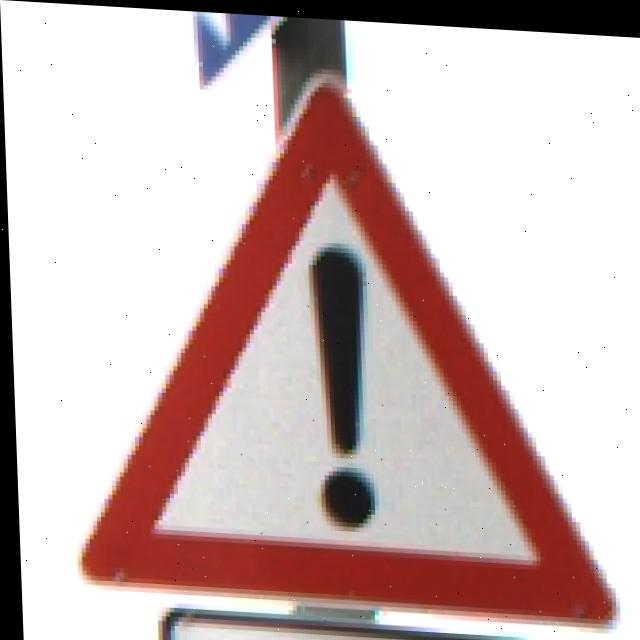warning: (66, 83, 637, 638)
